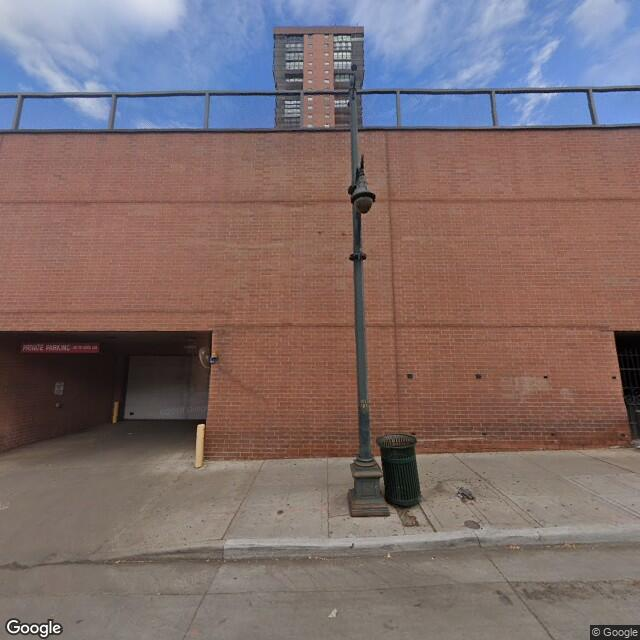lamp: (344, 98, 388, 513)
